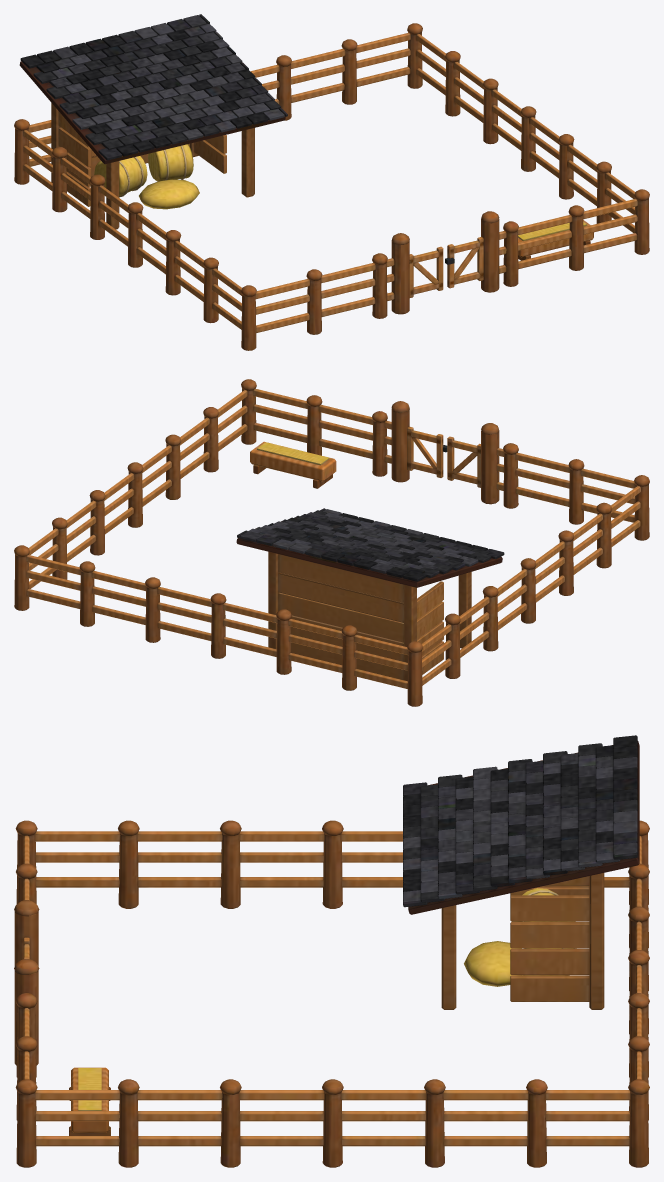
The model's file is angus_ranch.glb.
3 renders of one model, top to bottom at view 1: azimuth 30°, elevation 25°; view 2: azimuth 150°, elevation 25°; view 3: azimuth 270°, elevation 25°, orthographic. The views are drawn at different scales.
Visible parts, largest first — view 1: angus_ranch, gate1, gate0; view 2: angus_ranch, gate1, gate0; view 3: angus_ranch.
Boxes of the visible parts, x1=… form: angus_ranch: x1=14, y1=14, x2=649, y2=350; gate1: x1=445, y1=236, x2=483, y2=288; gate0: x1=409, y1=246, x2=443, y2=297; angus_ranch: x1=14, y1=379, x2=649, y2=706; gate1: x1=407, y1=426, x2=447, y2=477; gate0: x1=447, y1=436, x2=480, y2=487; angus_ranch: x1=14, y1=735, x2=649, y2=1167.
Bounding box in the file's own units: 3 × 0.9345 × 3.01.
Materials: 1 (1 with a texture image).
